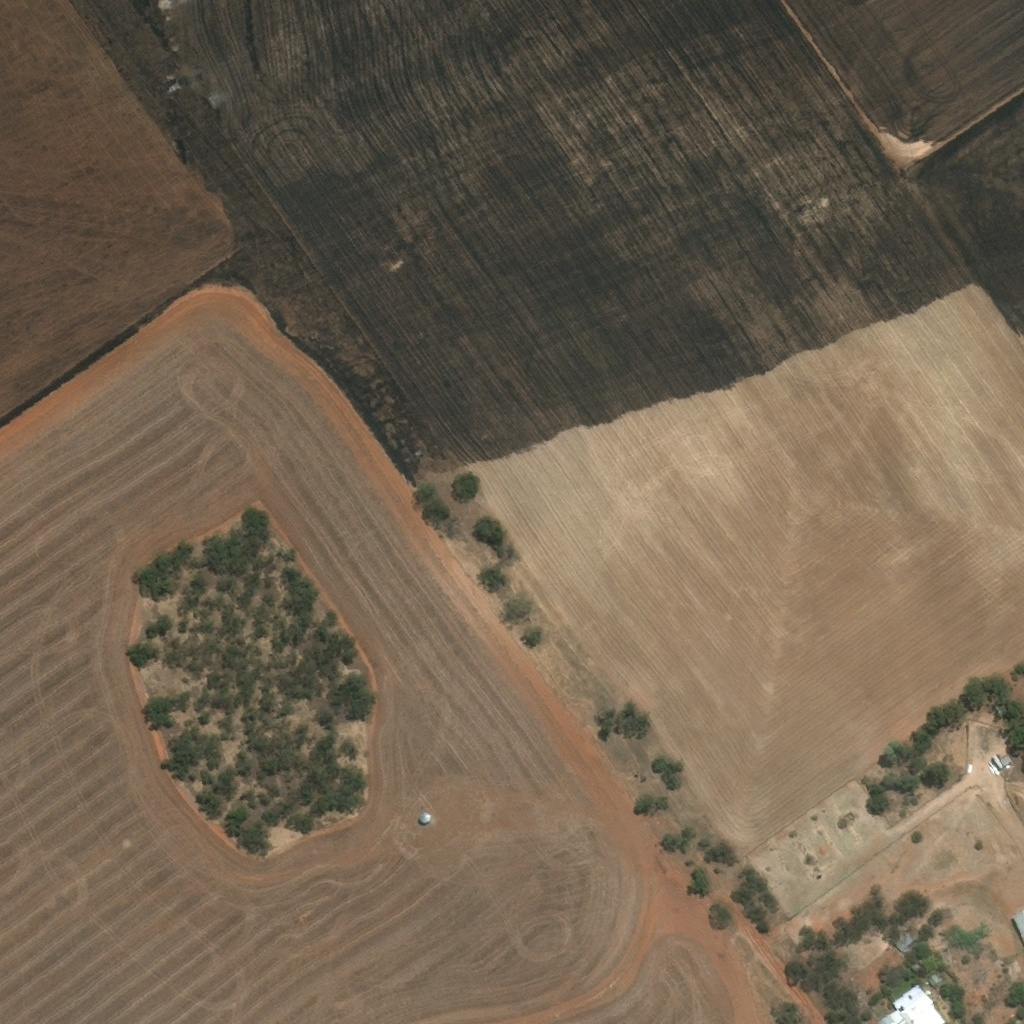0 no-damage: (875, 982, 946, 1023), (892, 933, 914, 952), (991, 752, 1013, 768), (926, 972, 942, 987)
